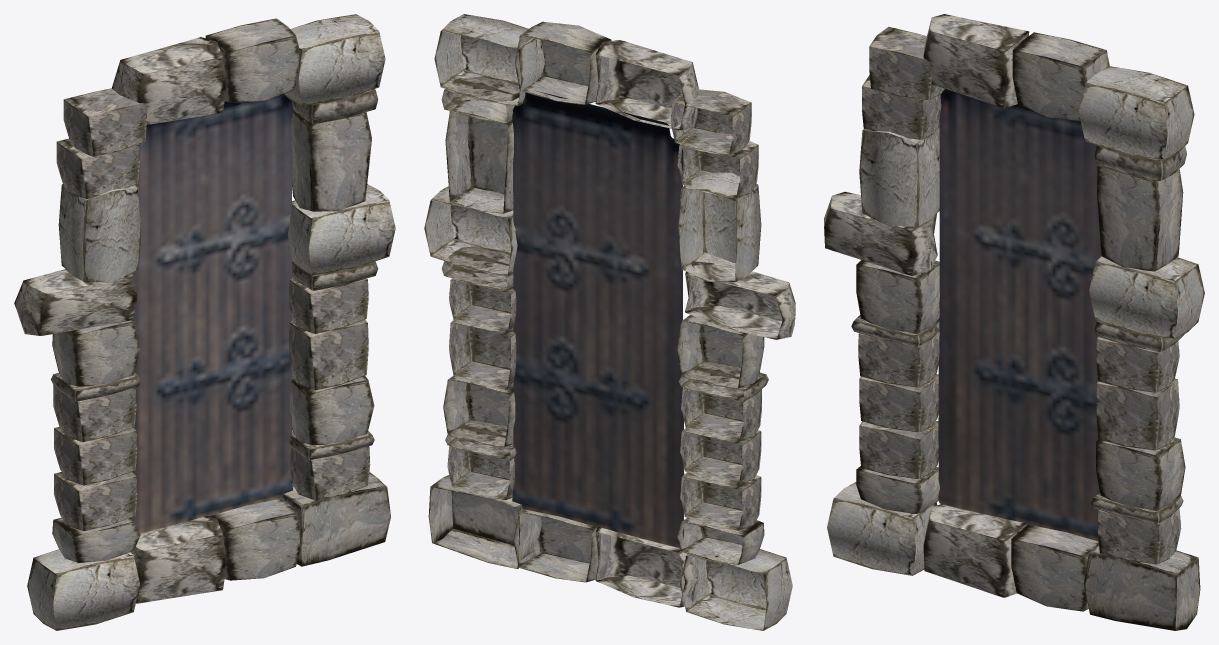
Rendered from door008.FBX.
3 views of the same model, side by side, from view 1: azimuth 30°, elevation 25°; view 2: azimuth 150°, elevation 25°; view 3: azimuth 330°, elevation 25° (orthographic). The views are drawn at different scales.
Parts seen in each view (by area): view 1: door008; view 2: door008; view 3: door008.
Part boxes in pixels (<box>): door008: <box>14,14,395,630</box>; door008: <box>424,14,795,630</box>; door008: <box>824,14,1204,630</box>.
Bounding box in the file's own units: 218 × 28.9 × 313.
